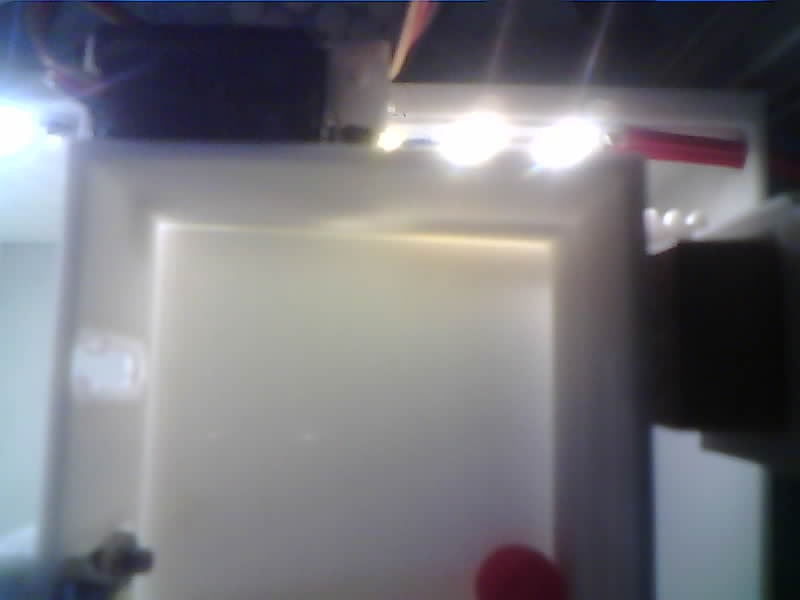Plastic: (472, 546, 558, 600)
